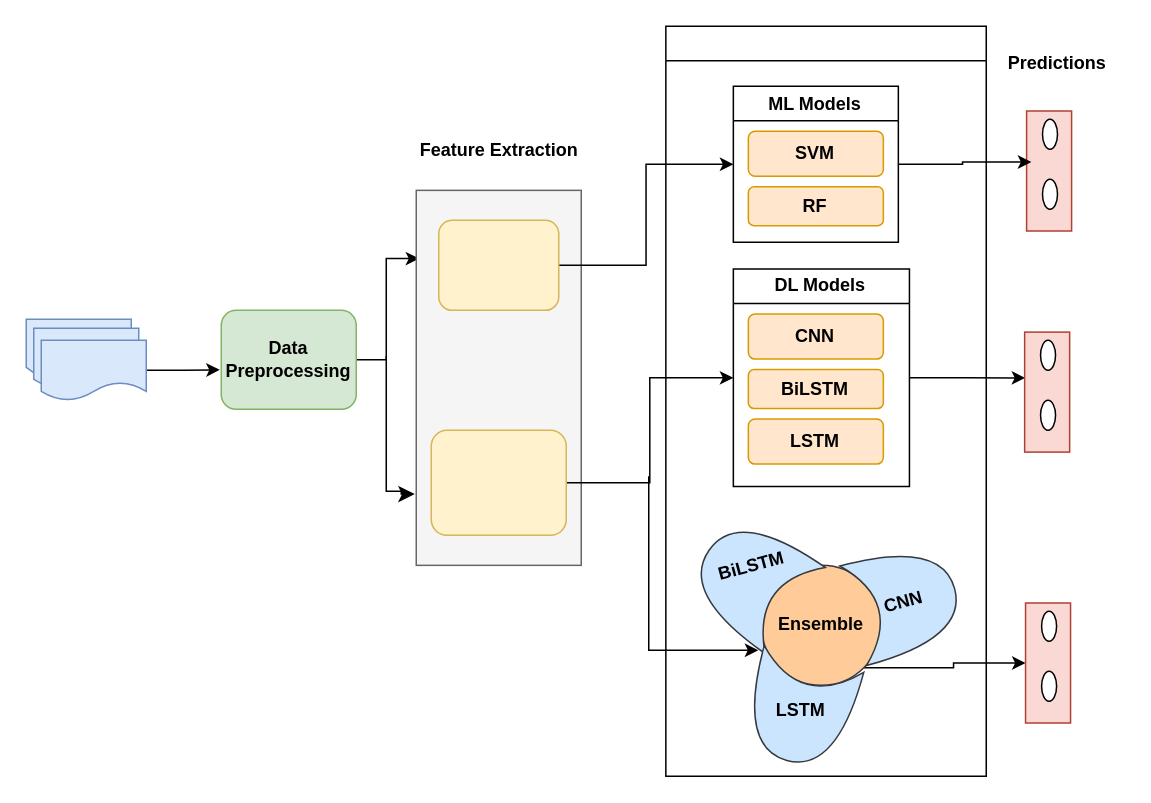
The diagram is 1151 pixels wide and 803 high, and some of its shapes have lost their labels. The centre of each missing label's shape, as x and y in pixels:
"BoW Tf-Idf" goes at pixel 498 264.
"Classification" goes at pixel 825 400.
"TEXT" goes at pixel 93 369.
"Word2Vec FastText GLOVE" goes at pixel 498 482.
